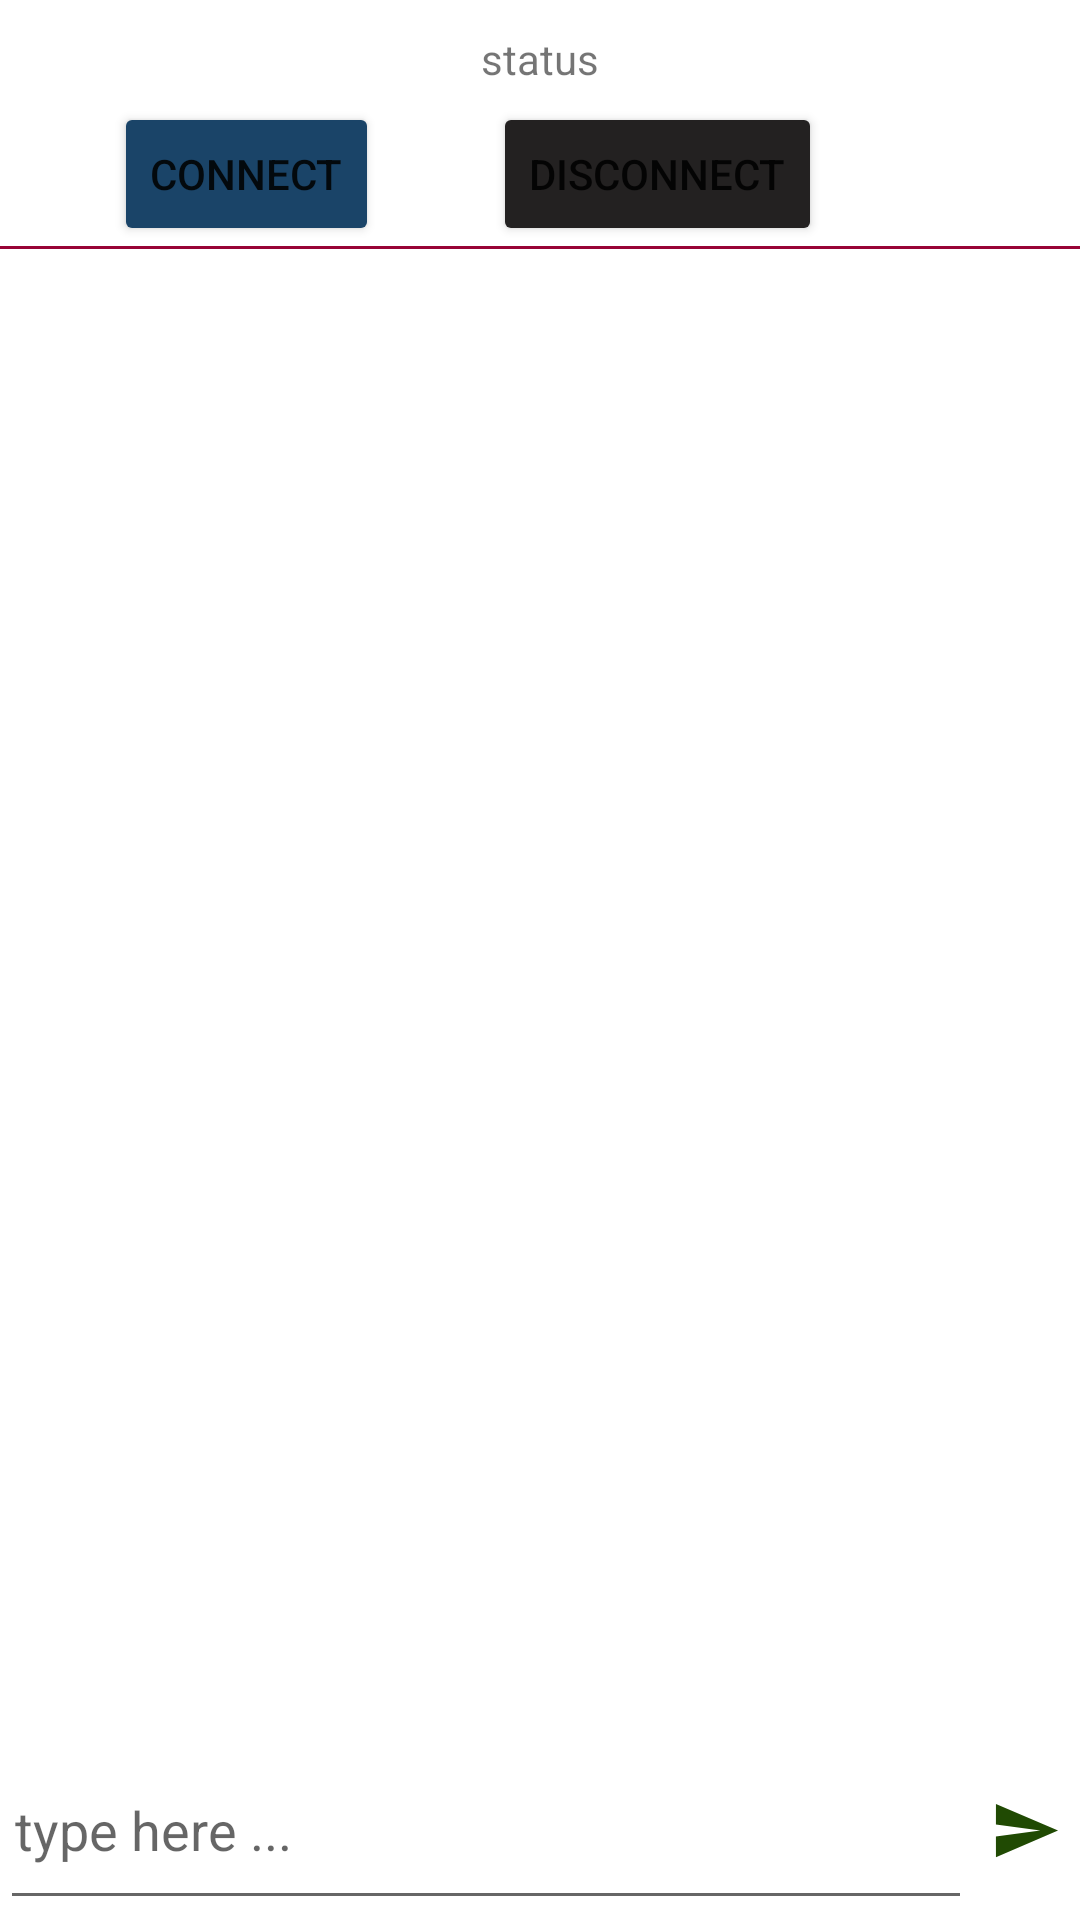

Named icons in this screenshot (1080w x 1920h) and their bounding boxes, [x1, y1, x2, y2]:
send message: [996, 1804, 1058, 1857]
